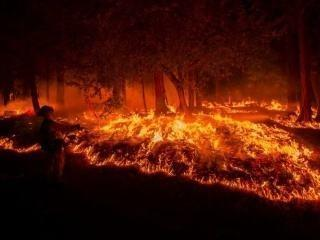fire: (8, 78, 315, 203)
